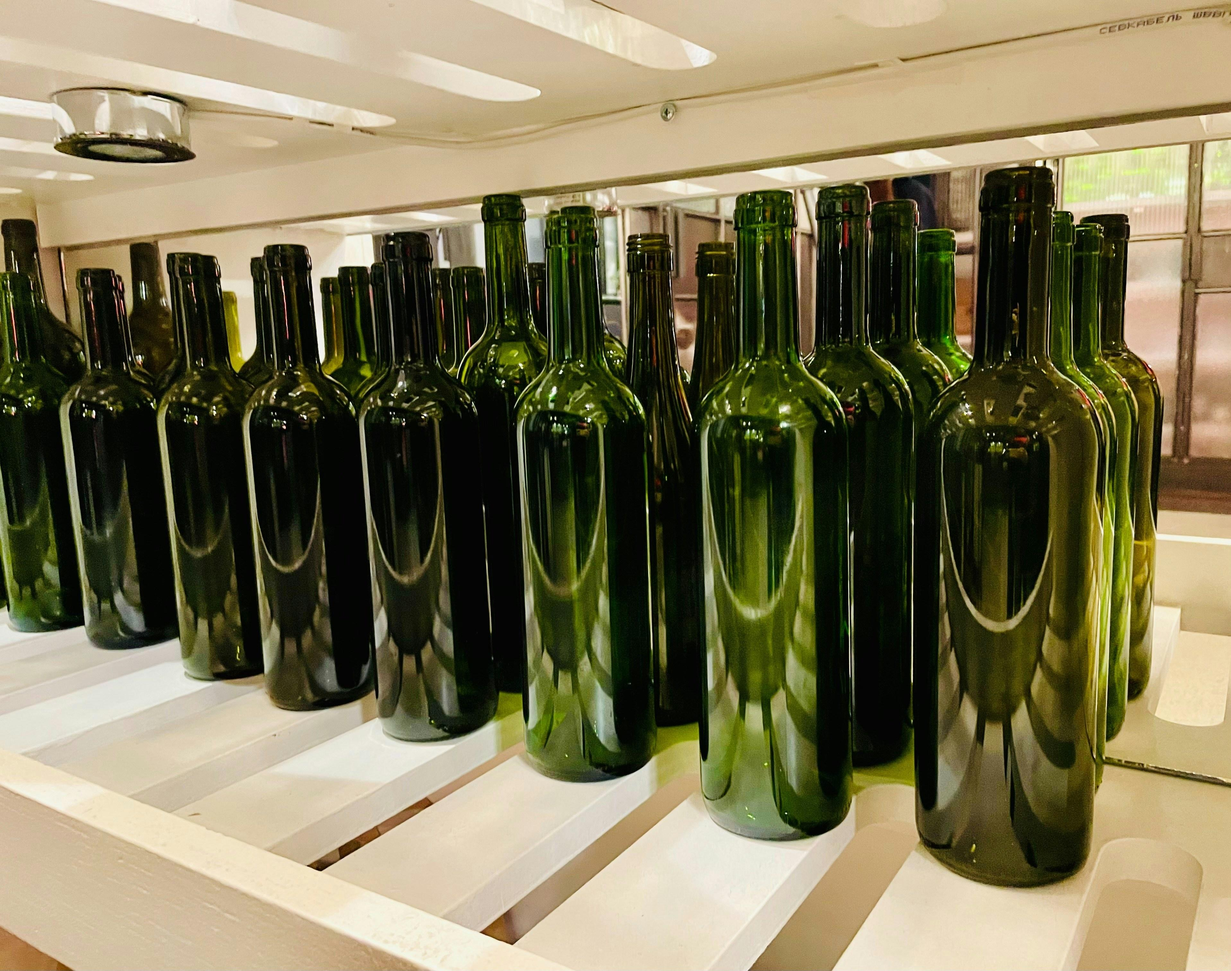Bottle-Detection: (921, 154, 1143, 899), (828, 141, 1008, 803), (514, 170, 681, 806), (716, 157, 857, 848), (334, 199, 504, 768), (199, 196, 372, 755), (610, 154, 751, 781), (427, 164, 572, 739), (144, 215, 289, 703), (55, 225, 189, 675), (0, 202, 103, 652)
